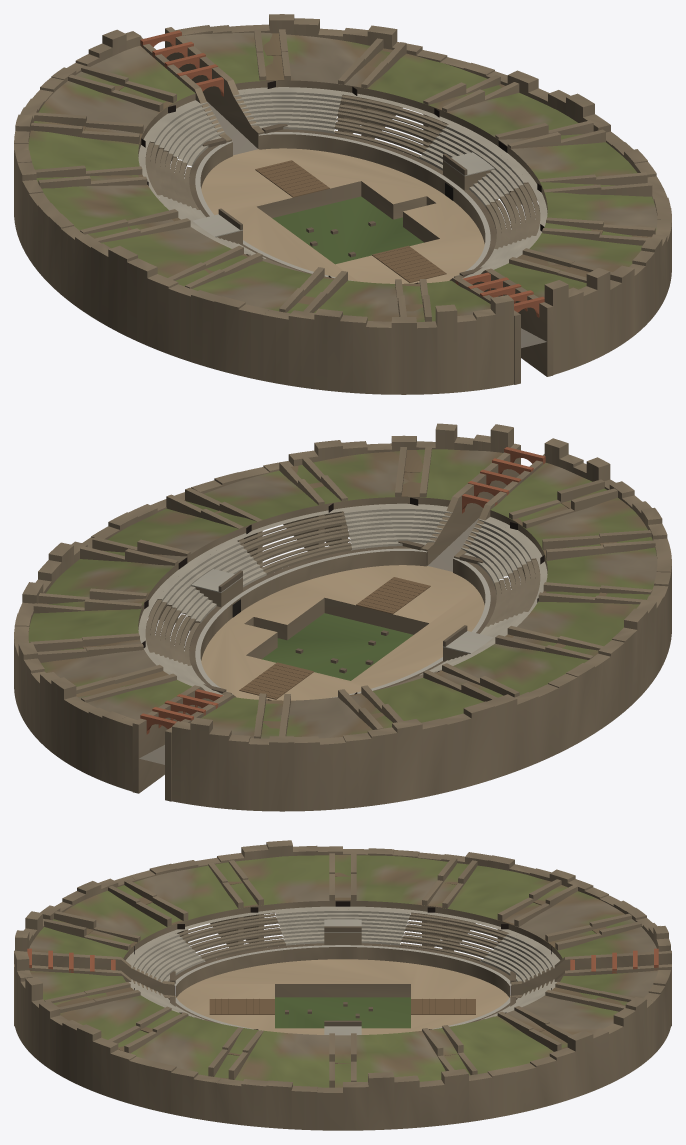
3 renders of one model, top to bottom at view 1: azimuth 30°, elevation 25°; view 2: azimuth 150°, elevation 25°; view 3: azimuth 270°, elevation 25°, orthographic. The views are drawn at different scales.
Visible parts, largest first — view 1: anfiteatro_de_merida; view 2: anfiteatro_de_merida; view 3: anfiteatro_de_merida.
Boxes of the visible parts, x1=… form: anfiteatro_de_merida: x1=14, y1=14, x2=671, y2=394; anfiteatro_de_merida: x1=14, y1=423, x2=671, y2=811; anfiteatro_de_merida: x1=14, y1=840, x2=671, y2=1130.
Size of the model in its own units: 102 by 15.57 by 126.
